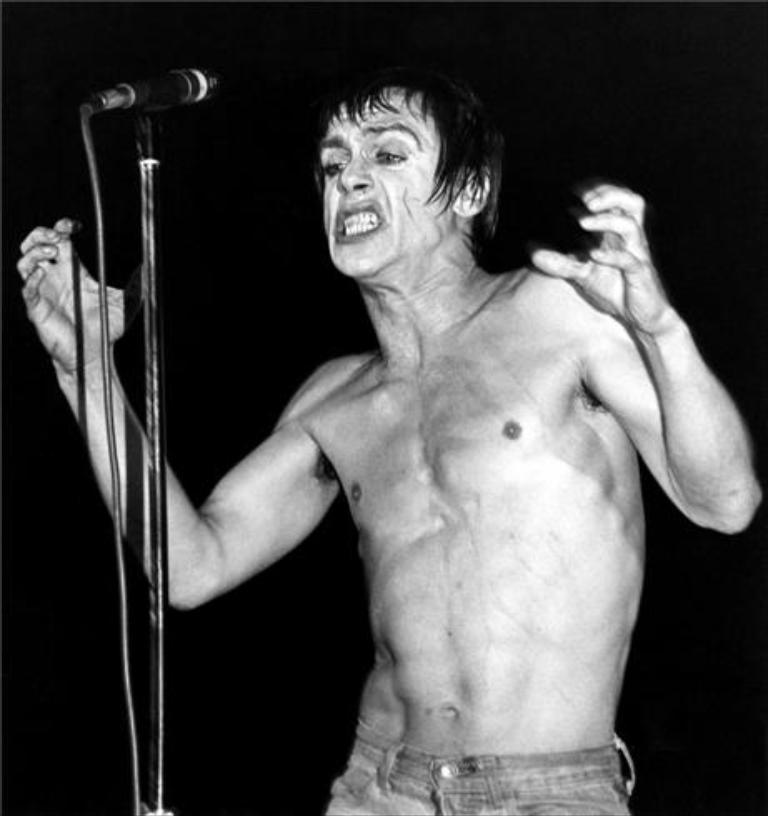face: (318, 93, 437, 274)
